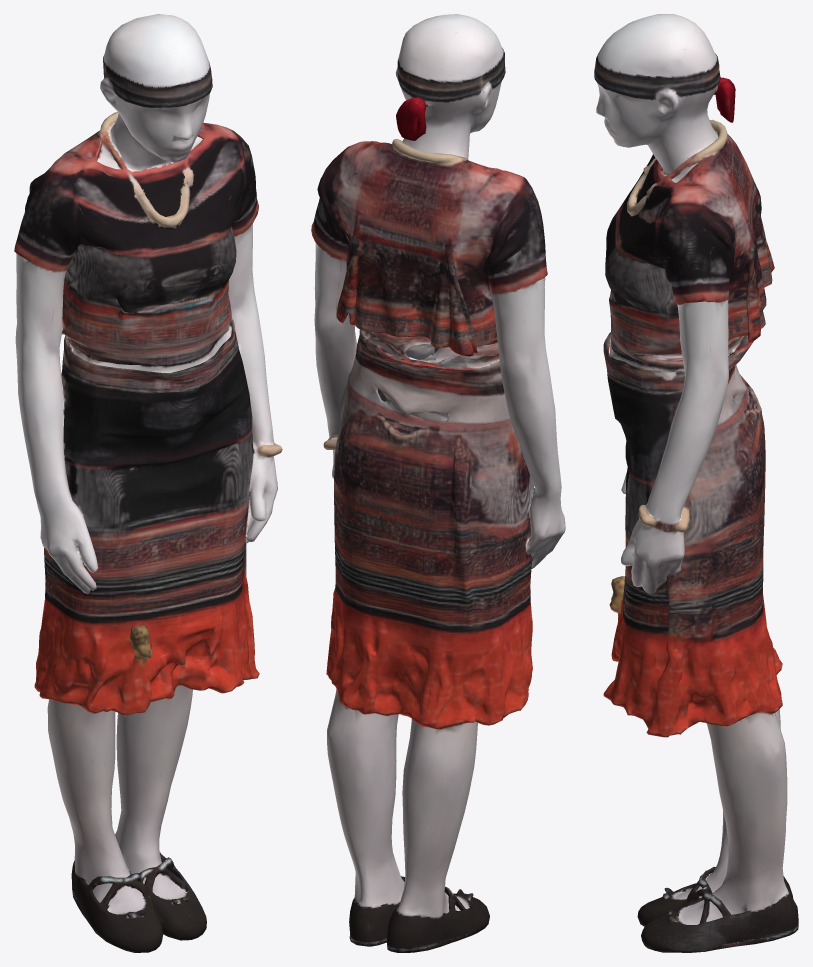
3 views of the same model, side by side, from view 1: azimuth 30°, elevation 25°; view 2: azimuth 150°, elevation 25°; view 3: azimuth 270°, elevation 25° (orthographic). The views are drawn at different scales.
Bounding box in the file's own units: 0.2406 × 0.8814 × 0.1792.
1 material, 1 textured.
